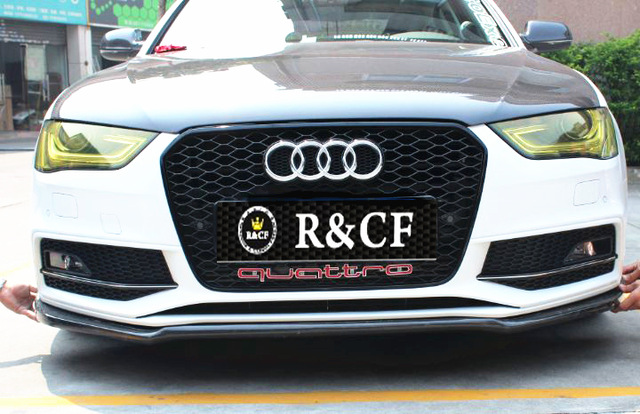audi: (257, 134, 390, 188)
